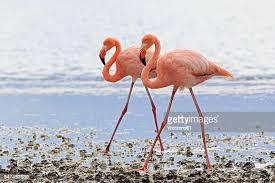Walking: (76, 22, 246, 177)
